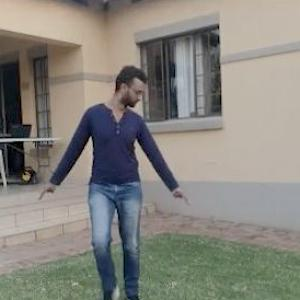land: (46, 73, 186, 299)
